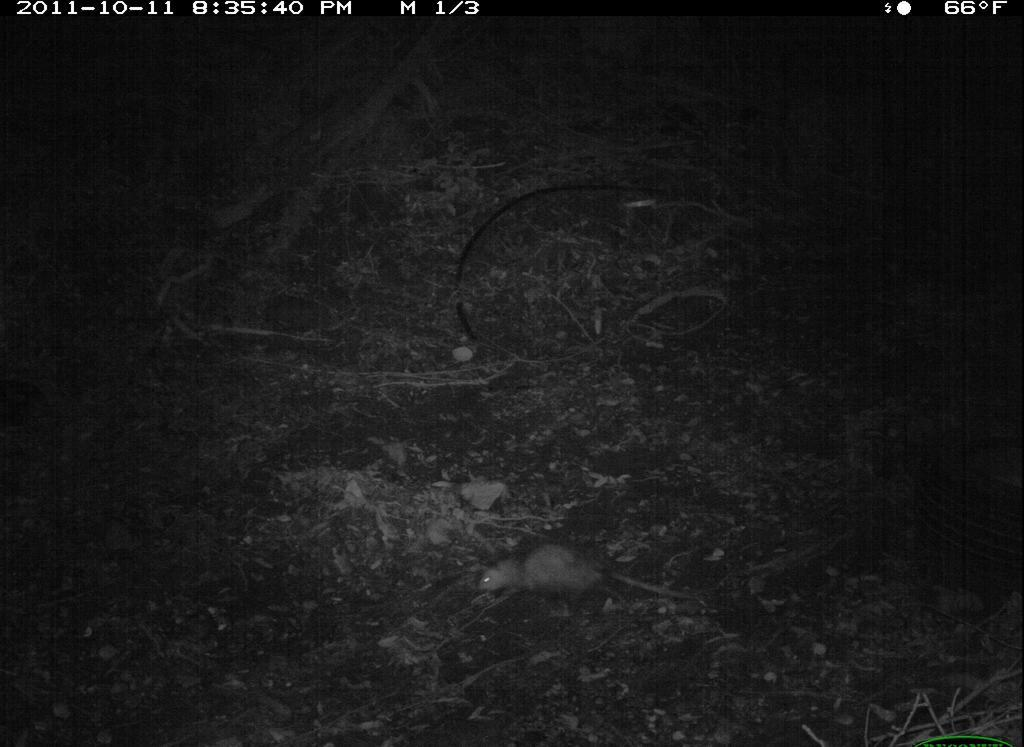opossum: (477, 539, 702, 629)
